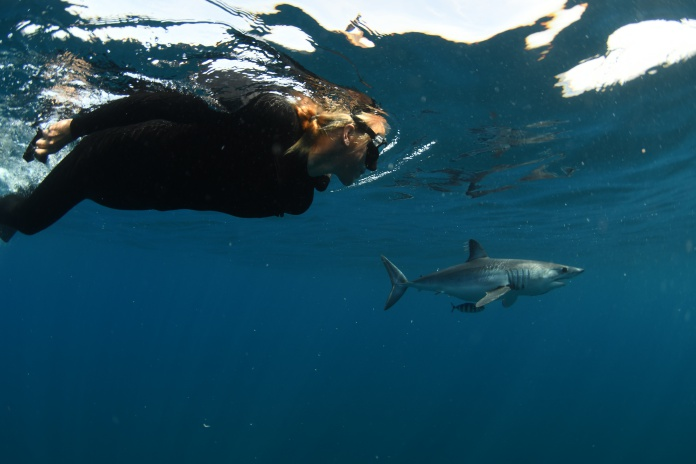Mako: (353, 237, 597, 324)
